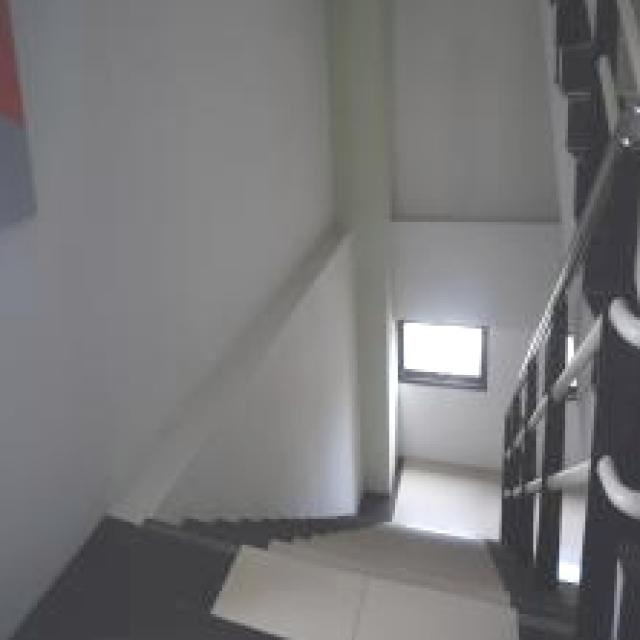downstair: (179, 525, 502, 640)
